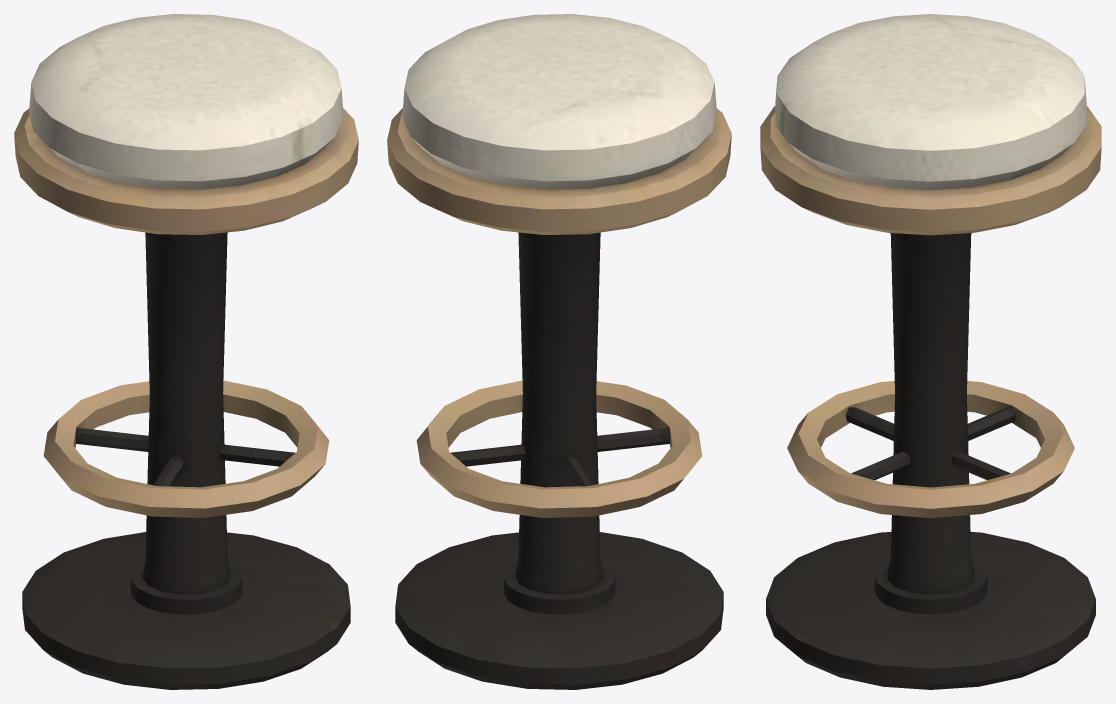
File: bar_stool.glb
3 renders of one model, left to right at view 1: azimuth 30°, elevation 25°; view 2: azimuth 150°, elevation 25°; view 3: azimuth 270°, elevation 25°, orthographic.
Parts seen in each view (by area): view 1: bar_stool; view 2: bar_stool; view 3: bar_stool.
Boxes of the visible parts, <box> form: bar_stool: <box>14,14,358,689</box>; bar_stool: <box>387,14,731,689</box>; bar_stool: <box>760,14,1101,689</box>.
Bounding box in the file's own units: 0.46 × 0.824 × 0.4553.
1 material, 1 textured.
